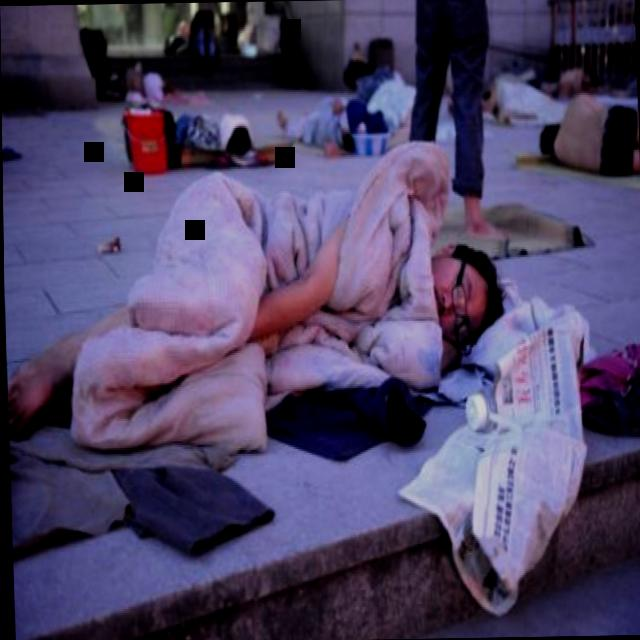Fall-Detected: (119, 77, 262, 172)
